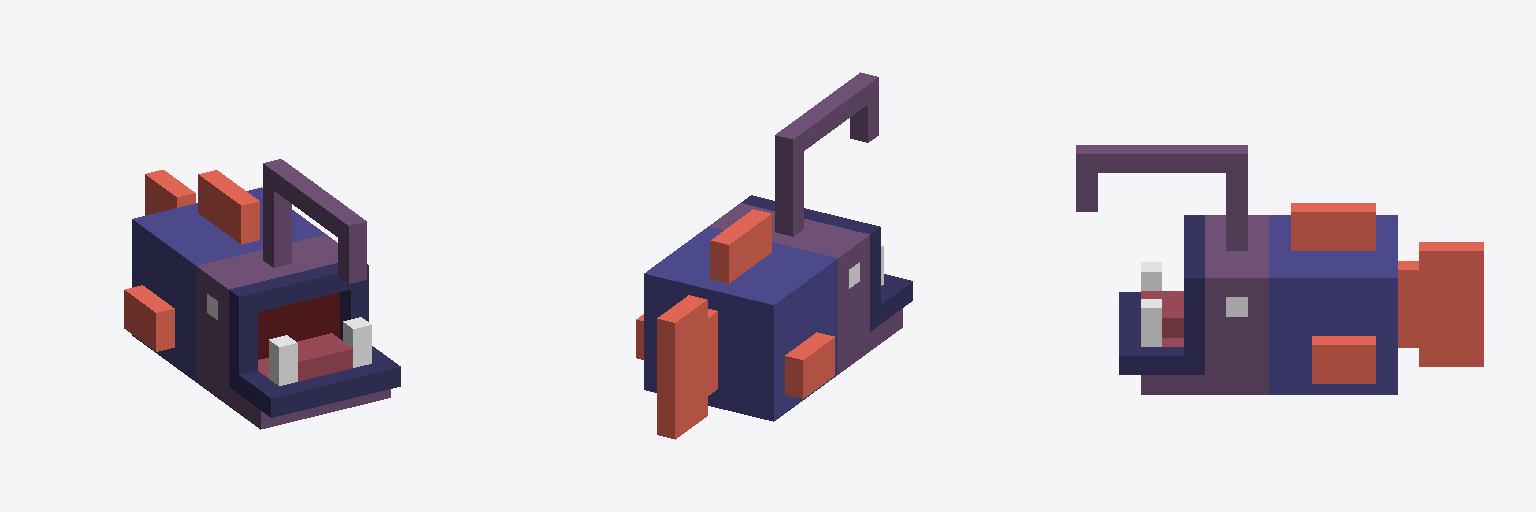
3 renders of one model, left to right at view 1: azimuth 30°, elevation 25°; view 2: azimuth 150°, elevation 25°; view 3: azimuth 270°, elevation 25°, orthographic.
Parts seen in each view (by area): view 1: AnglerFish; view 2: AnglerFish; view 3: AnglerFish.
Part boxes in pixels (x1,y1,x2,y2): AnglerFish: (124, 159, 400, 429); AnglerFish: (636, 72, 912, 439); AnglerFish: (1076, 145, 1483, 394).
Size of the model in its own units: 9 by 11 by 19.
1 materials, 1 textured.